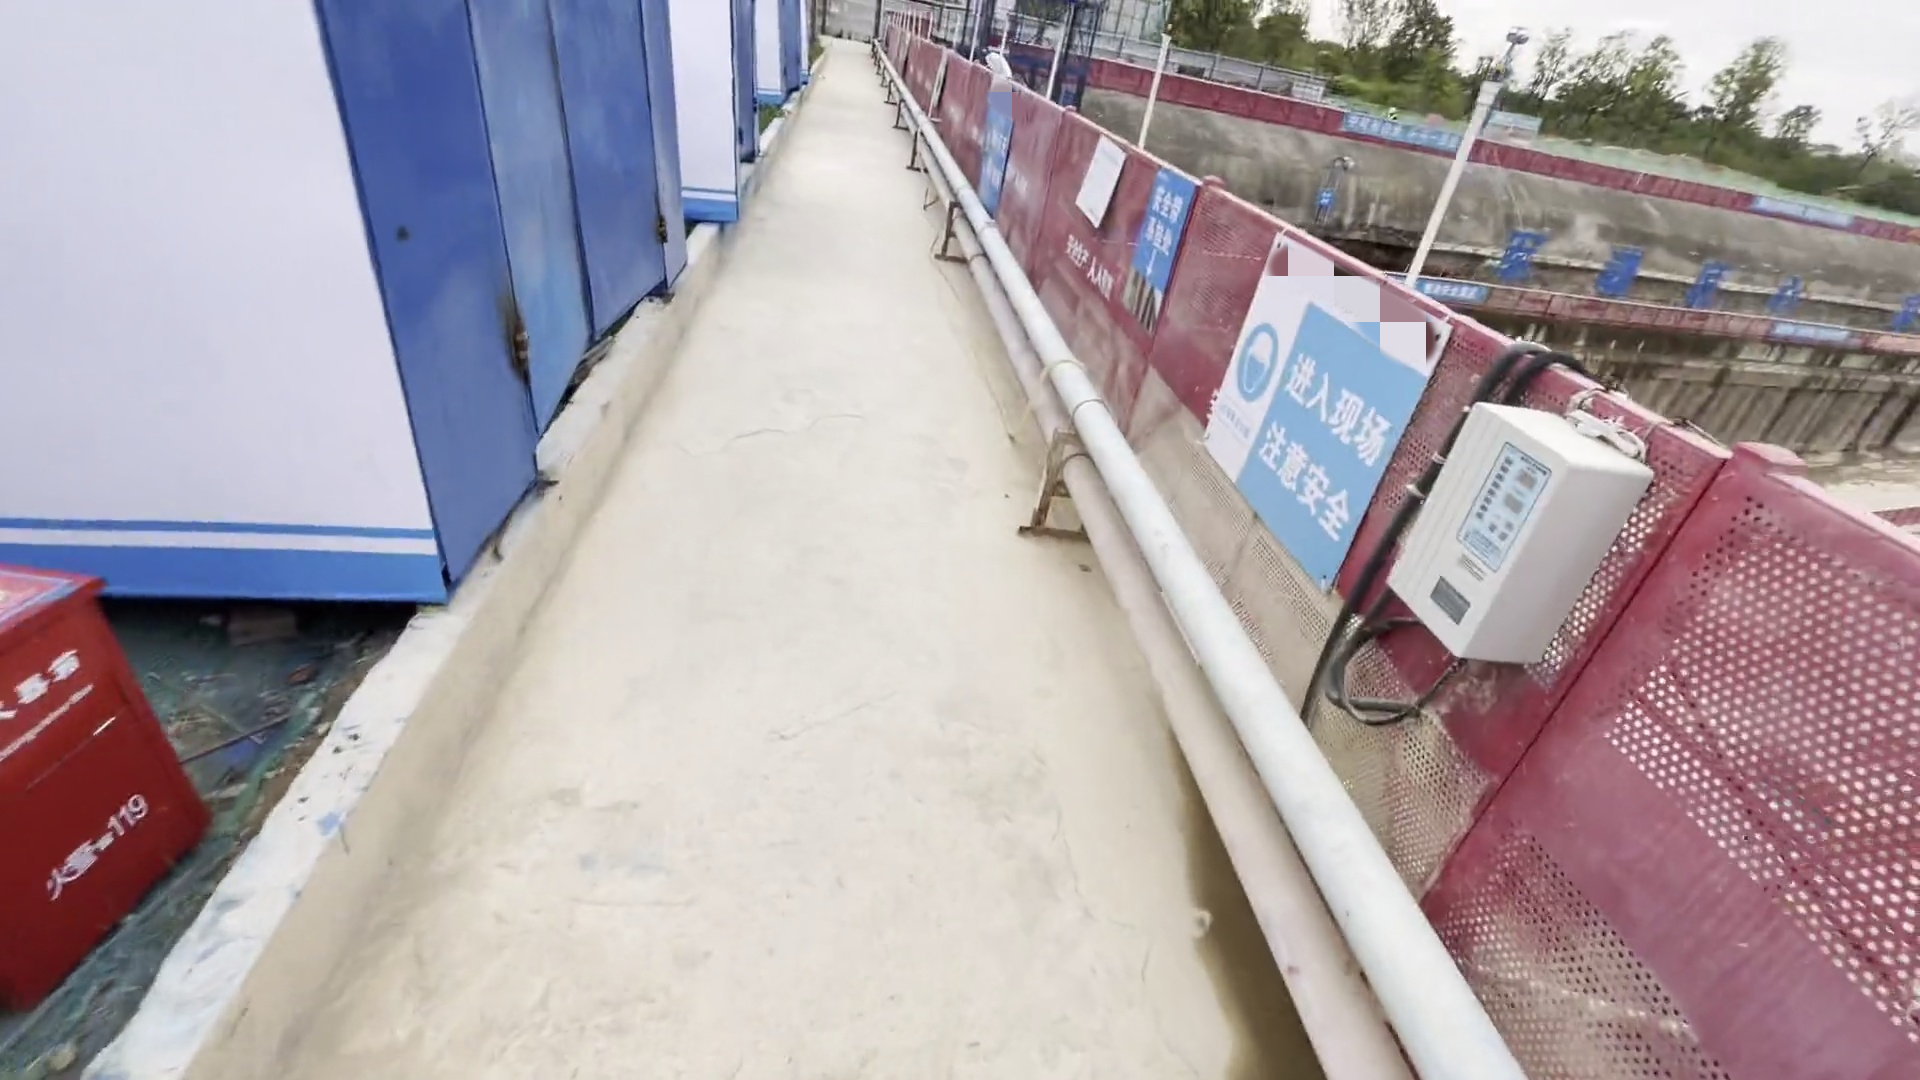fence: (920, 54, 1905, 1069)
slogan: (1218, 262, 1429, 558)
